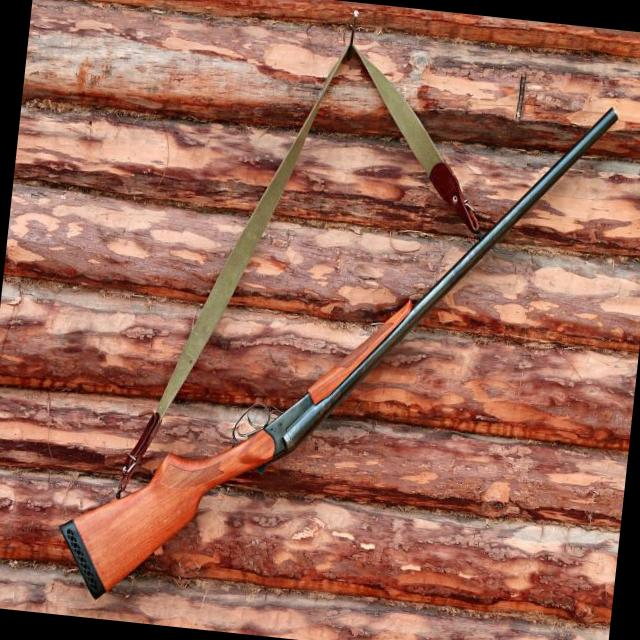Gun: (59, 109, 617, 596)
